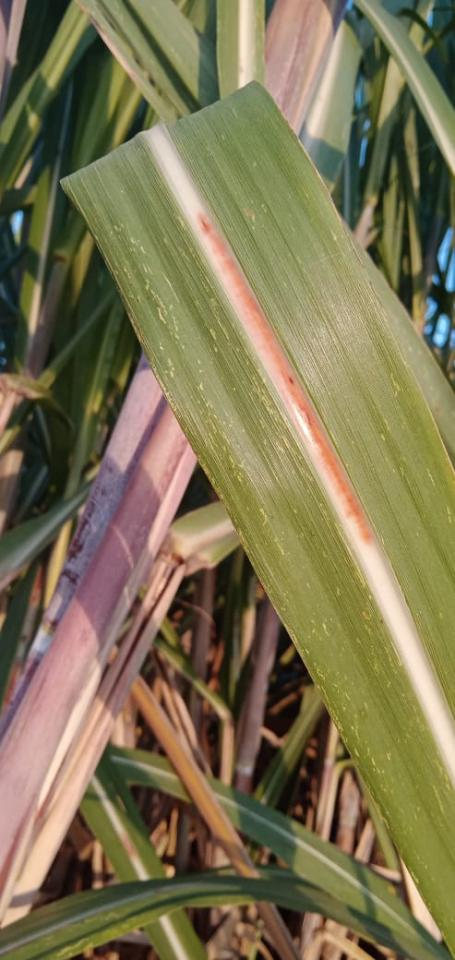RedRot: (191, 208, 378, 549)
